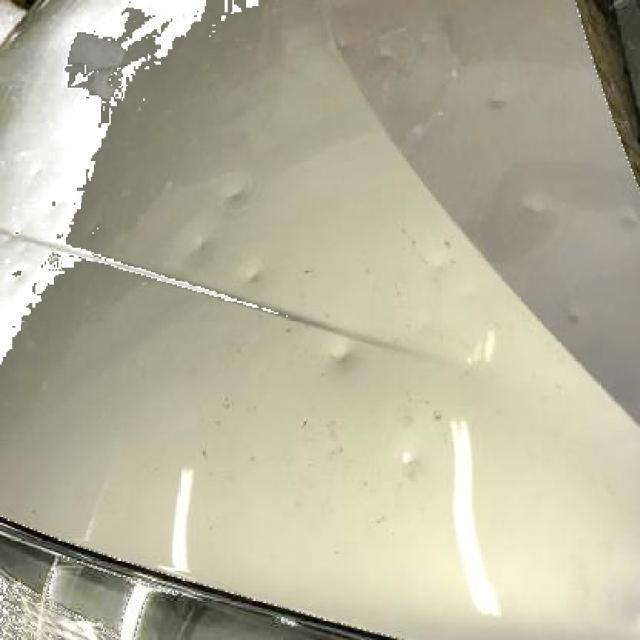dent: (520, 195, 553, 223), (396, 443, 425, 469), (188, 230, 213, 259), (217, 184, 248, 205), (328, 340, 353, 366), (330, 33, 353, 59), (562, 306, 587, 329), (620, 208, 640, 236), (11, 262, 30, 287), (245, 269, 265, 291), (488, 95, 508, 114)
